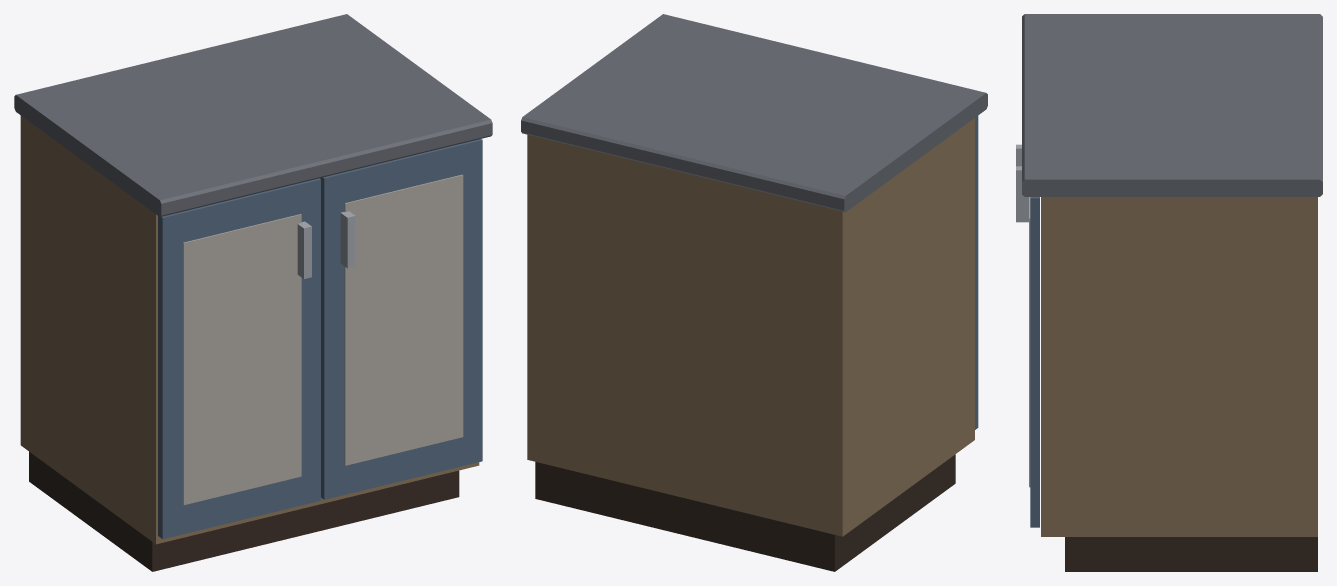
Rendered from kitchen_cabinet.glb.
The picture shows the model from 3 angles, left to right: view 1: azimuth 30°, elevation 25°; view 2: azimuth 150°, elevation 25°; view 3: azimuth 270°, elevation 25°; orthographic projection. The views are drawn at different scales.
Parts seen in each view (by area): view 1: KitchenCabinet, Door_L, Door_R; view 2: KitchenCabinet, Door_L; view 3: KitchenCabinet, Door_R.
Boxes of the visible parts, x1=… form: KitchenCabinet: x1=14, y1=14, x2=492, y2=571; Door_L: x1=158, y1=178, x2=320, y2=539; Door_R: x1=320, y1=139, x2=482, y2=499; KitchenCabinet: x1=521, y1=14, x2=987, y2=571; Door_L: x1=975, y1=116, x2=978, y2=429; KitchenCabinet: x1=1022, y1=14, x2=1322, y2=571; Door_R: x1=1016, y1=166, x2=1039, y2=527.
Size of the model in its own units: 0.82 by 0.92 by 0.642.
